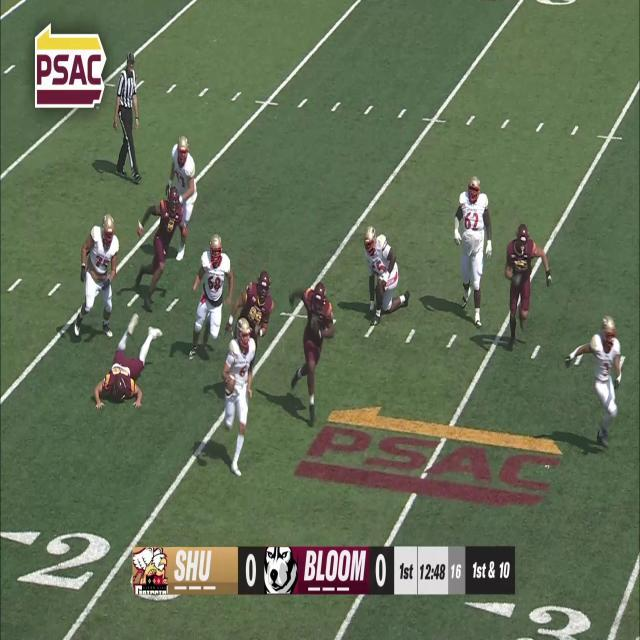football: (224, 374, 236, 396)
